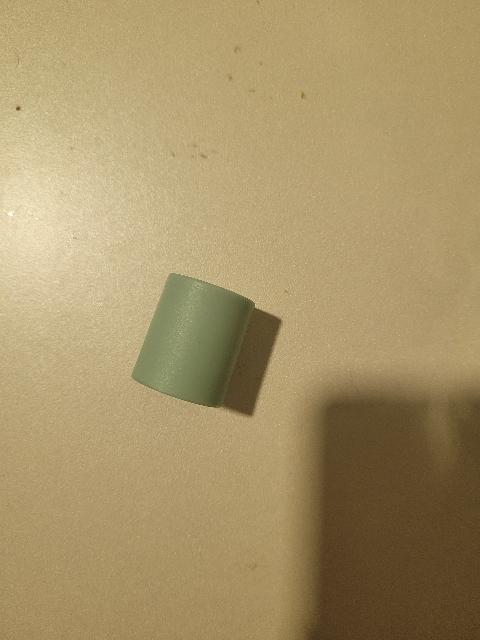Plastik: (127, 275, 258, 411)
